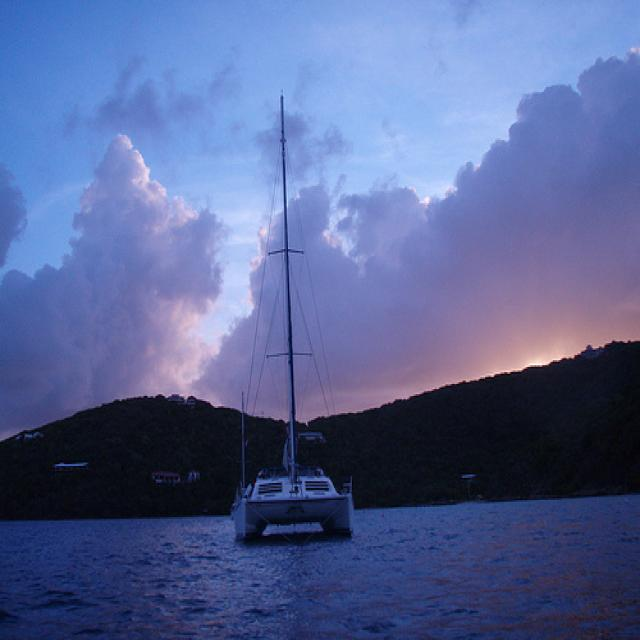Boat: (232, 108, 388, 580)
